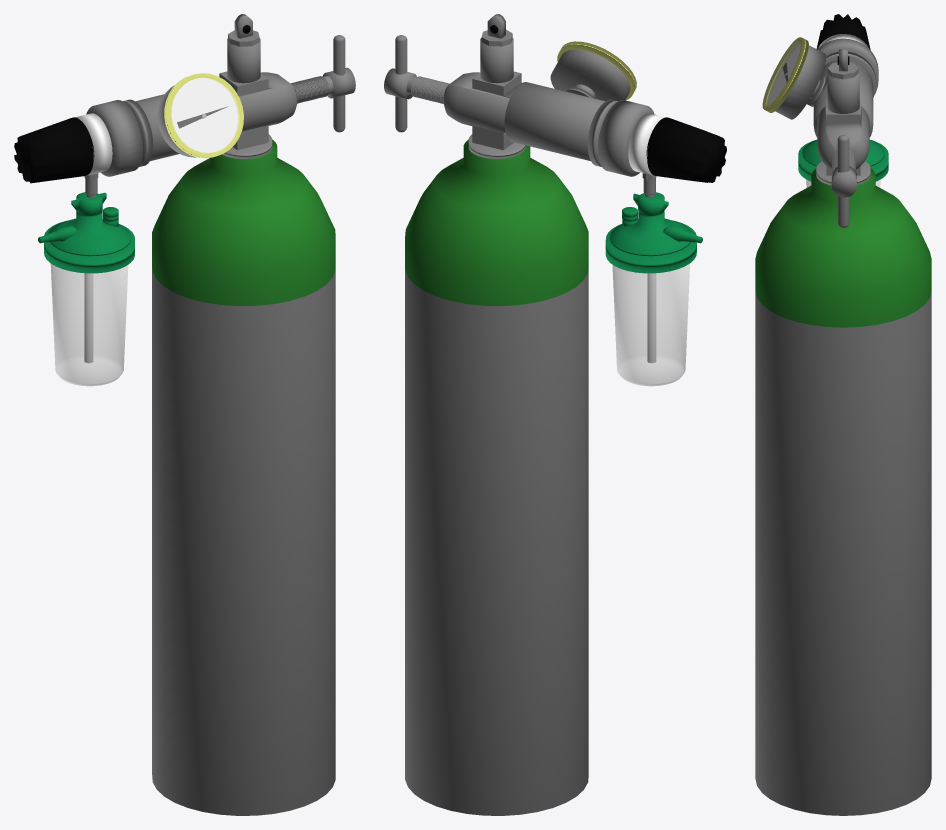
File: tanque_oxigeno.glb
3 views of the same model, side by side, from view 1: azimuth 30°, elevation 25°; view 2: azimuth 150°, elevation 25°; view 3: azimuth 270°, elevation 25° (orthographic). The views are drawn at different scales.
Visible parts, largest first — view 1: tuvo_0, Cilindro.014_19, vaso_37, giro_18, momonomtro_36, Cilindro.020_35, Cilindro.024_39, Cilindro.010_14, Cilindro.005_7, Cilindro.023_38, Cilindro.018_32, Cilindro.002_3 (+7 smaller); view 2: tuvo_0, Cilindro.014_19, vaso_37, Cilindro.008_12, giro_18, Cilindro.024_39, Cilindro.017_31, Cilindro.005_7, Cilindro.010_14, Cilindro.023_38, Cubo_2, Cilindro.002_3 (+8 smaller); view 3: tuvo_0, Cilindro.014_19, Cilindro.005_7, Cilindro.017_31, Cilindro.018_32, Cilindro.008_12, Cilindro.002_3, giro_18, Cilindro.007_10, momonomtro_36, Cilindro.010_14, Cilindro.024_39 (+7 smaller).
Boxes of the visible parts, bbox=[...] form: tuvo_0: bbox=[152, 266, 335, 815]; Cilindro.014_19: bbox=[152, 139, 335, 305]; vaso_37: bbox=[50, 264, 128, 386]; giro_18: bbox=[14, 117, 94, 183]; momonomtro_36: bbox=[171, 78, 239, 152]; Cilindro.020_35: bbox=[171, 77, 237, 152]; Cilindro.024_39: bbox=[48, 192, 130, 256]; Cilindro.010_14: bbox=[86, 100, 142, 176]; Cilindro.005_7: bbox=[238, 72, 297, 131]; Cilindro.023_38: bbox=[44, 220, 134, 273]; Cilindro.018_32: bbox=[164, 73, 243, 158]; Cilindro.002_3: bbox=[227, 38, 260, 83]; tuvo_0: bbox=[405, 268, 588, 815]; Cilindro.014_19: bbox=[405, 139, 588, 305]; vaso_37: bbox=[612, 264, 689, 386]; Cilindro.008_12: bbox=[504, 82, 604, 161]; giro_18: bbox=[646, 117, 726, 182]; Cilindro.024_39: bbox=[609, 192, 692, 256]; Cilindro.017_31: bbox=[550, 49, 630, 101]; Cilindro.005_7: bbox=[443, 72, 521, 134]; Cilindro.010_14: bbox=[598, 100, 654, 176]; Cilindro.023_38: bbox=[605, 220, 696, 273]; Cubo_2: bbox=[472, 71, 521, 150]; Cilindro.002_3: bbox=[480, 38, 513, 83]; tuvo_0: bbox=[755, 291, 931, 815]; Cilindro.014_19: bbox=[755, 168, 931, 327]; Cilindro.005_7: bbox=[817, 106, 869, 170]; Cilindro.017_31: bbox=[775, 45, 826, 119]; Cilindro.018_32: bbox=[762, 37, 808, 112]; Cilindro.008_12: bbox=[813, 60, 873, 137]; Cilindro.002_3: bbox=[827, 71, 859, 113]; giro_18: bbox=[816, 14, 870, 49]; Cilindro.007_10: bbox=[837, 135, 849, 228]; momonomtro_36: bbox=[765, 41, 800, 105]; Cilindro.010_14: bbox=[817, 38, 878, 94]; Cilindro.024_39: bbox=[802, 140, 884, 166].
Size of the model in its own units: 4.08 by 9.13 by 2.
